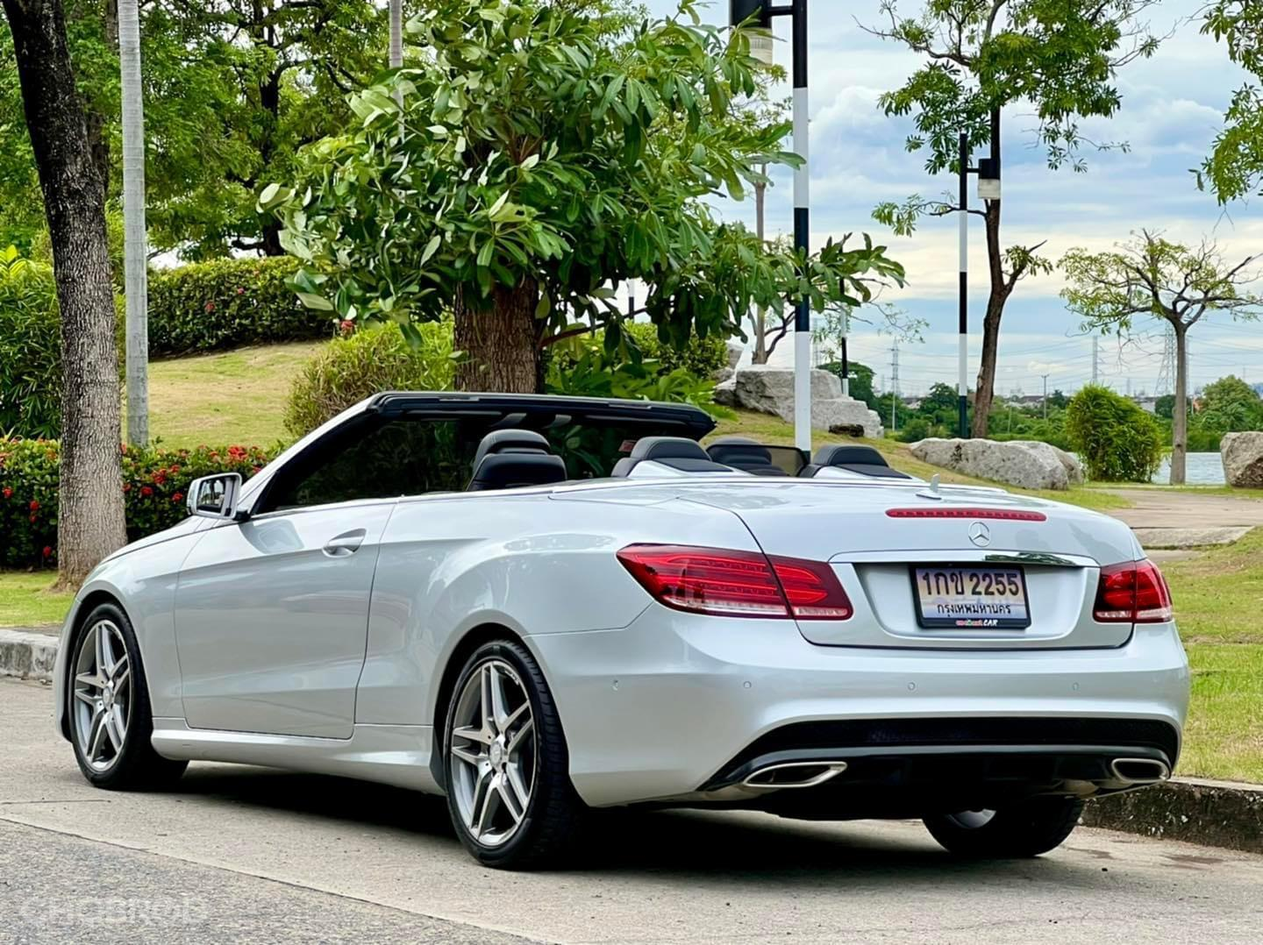license-plate: (900, 546, 1046, 645)
